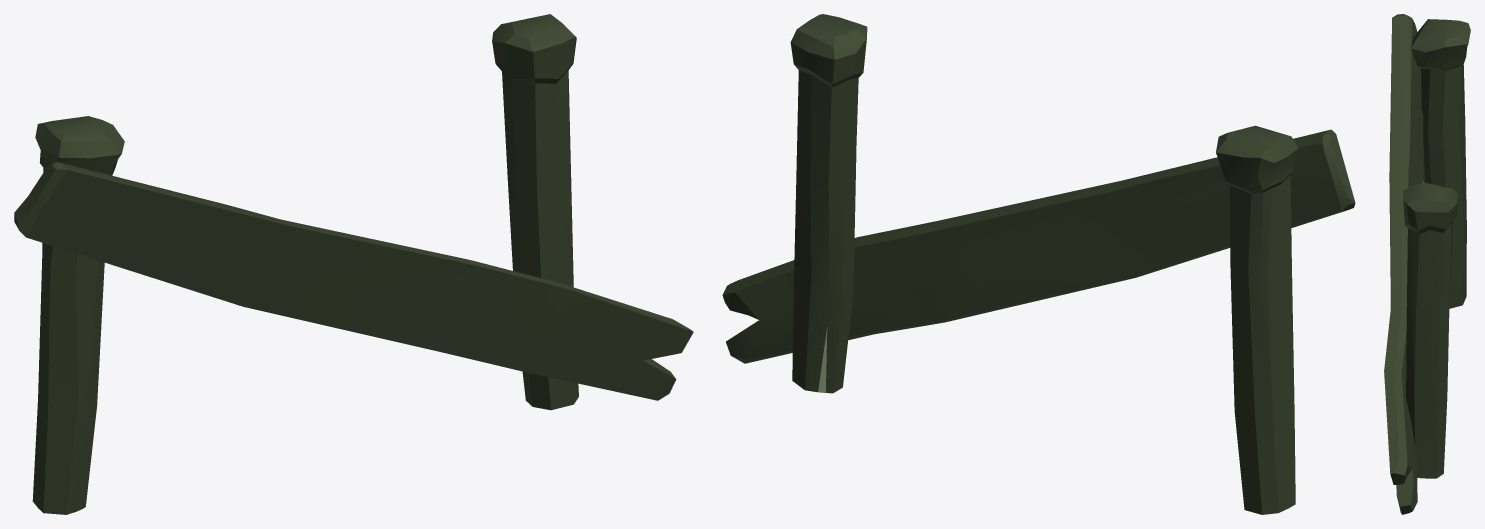
Rendered from EA_Fence_01d.glb.
3 views of the same model, side by side, from view 1: azimuth 30°, elevation 25°; view 2: azimuth 150°, elevation 25°; view 3: azimuth 270°, elevation 25° (orthographic). The views are drawn at different scales.
Parts seen in each view (by area): view 1: EA_Fence_01d; view 2: EA_Fence_01d; view 3: EA_Fence_01d.
Part boxes in pixels (x1,y1,x2,y2): EA_Fence_01d: [14, 14, 693, 514]; EA_Fence_01d: [722, 14, 1355, 514]; EA_Fence_01d: [1384, 14, 1470, 514].
Bounding box in the file's own units: 1.79 × 1.01 × 0.2762.
1 material, 1 textured.
